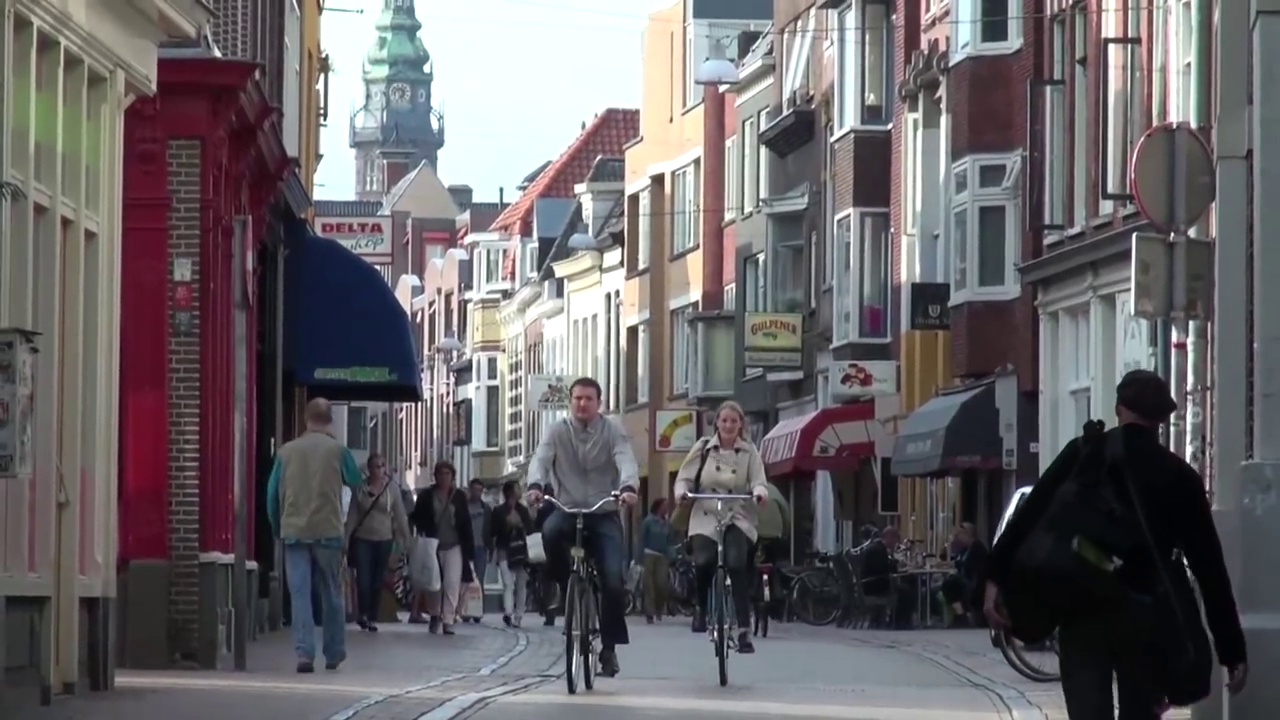cyclist_front: (521, 376, 647, 693), (672, 400, 776, 695)
